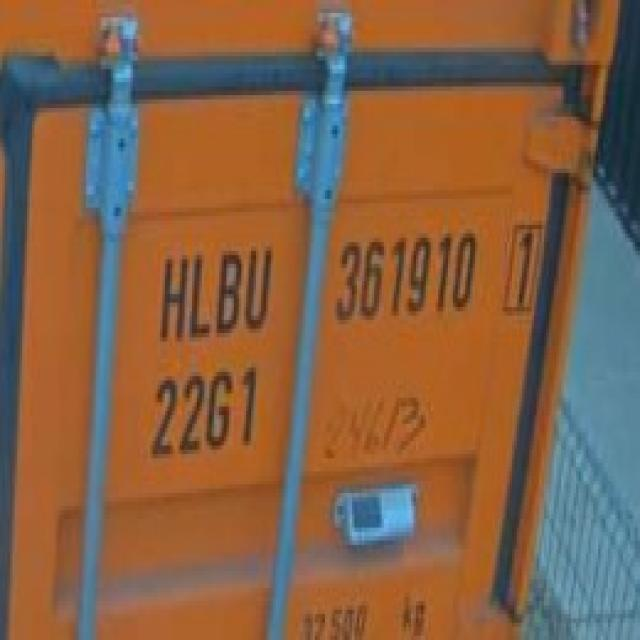dv: (504, 218, 542, 318)
owner: (156, 242, 274, 343)
serial: (334, 225, 482, 328)
size: (145, 363, 261, 457)
